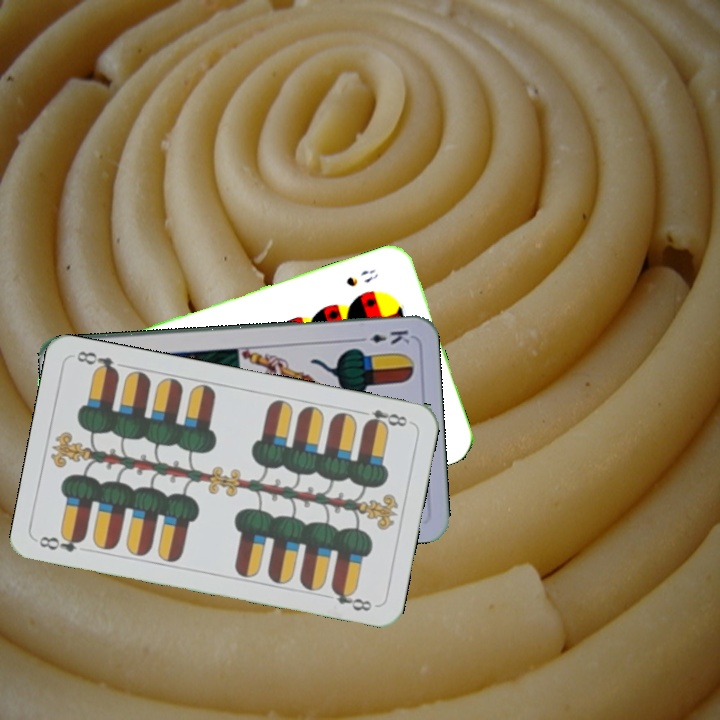E8: (355, 405, 410, 431), (35, 529, 88, 555)
EK: (353, 326, 412, 347)
S8: (342, 265, 382, 289)
